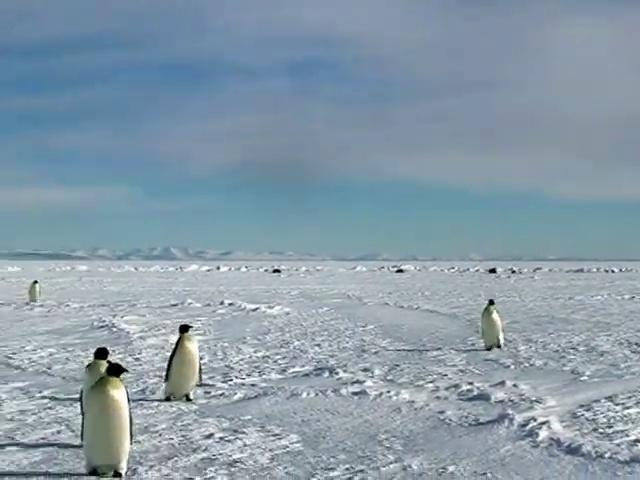animal: (165, 325, 204, 402)
